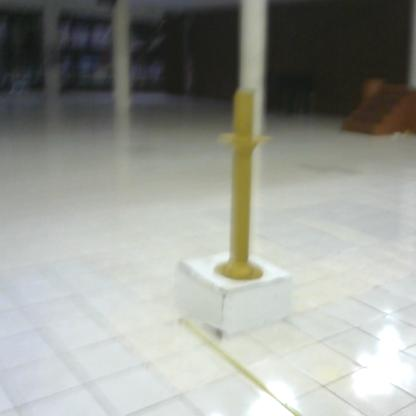pole: (210, 84, 278, 285)
